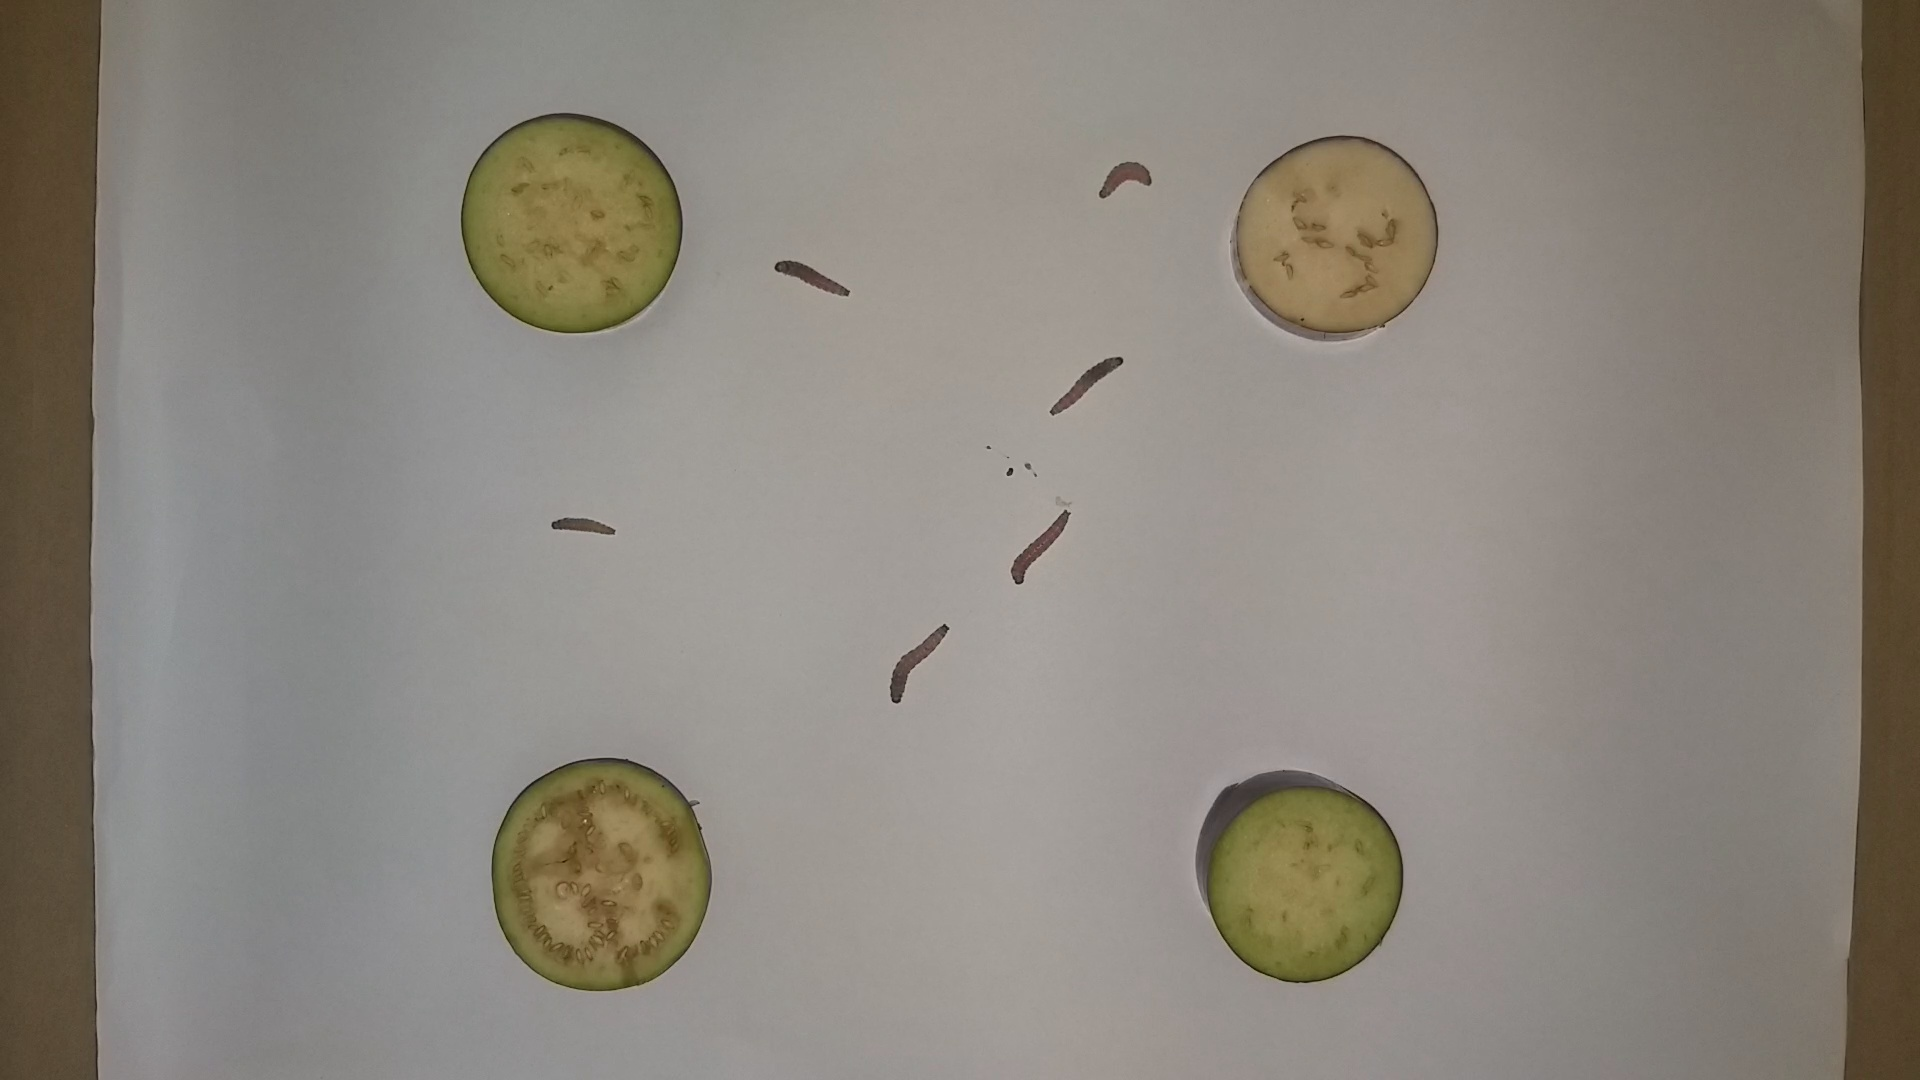efsb: (886, 621, 953, 709), (1007, 506, 1073, 592), (1047, 353, 1127, 421), (769, 252, 856, 302), (1095, 157, 1158, 202), (545, 509, 617, 541)
eggplant: (484, 750, 719, 1002), (454, 102, 694, 347), (1218, 124, 1448, 349), (1189, 764, 1411, 989)
